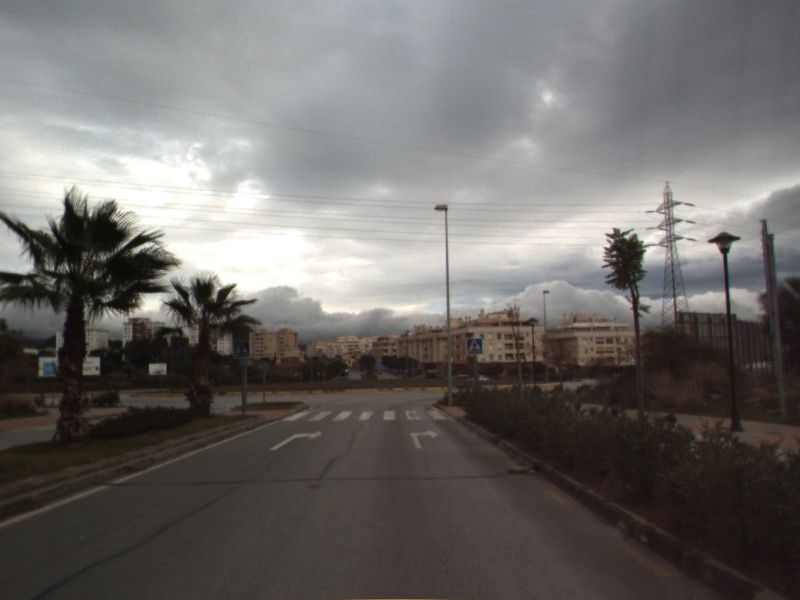RIGHT: (267, 429, 324, 452), (408, 427, 441, 450)
